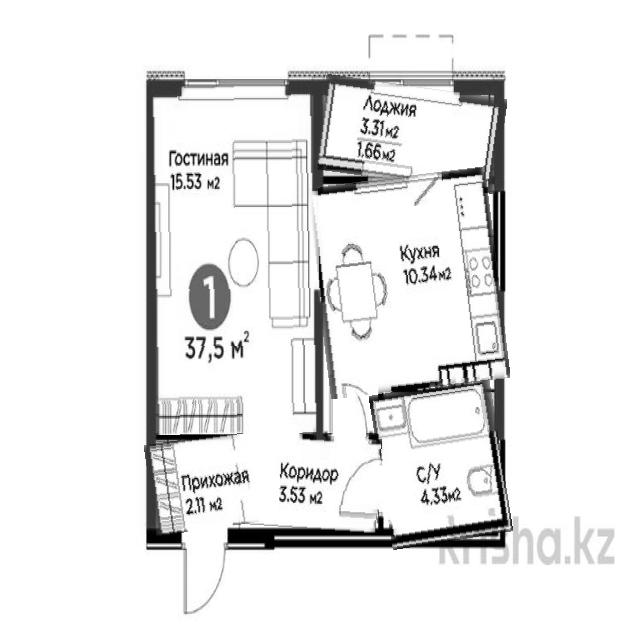balcony: (316, 80, 505, 188)
bathroom: (375, 382, 507, 546)
hallway: (249, 433, 381, 531), (147, 434, 257, 533)
kitchen: (311, 171, 504, 394)
living_room: (149, 84, 321, 435)
